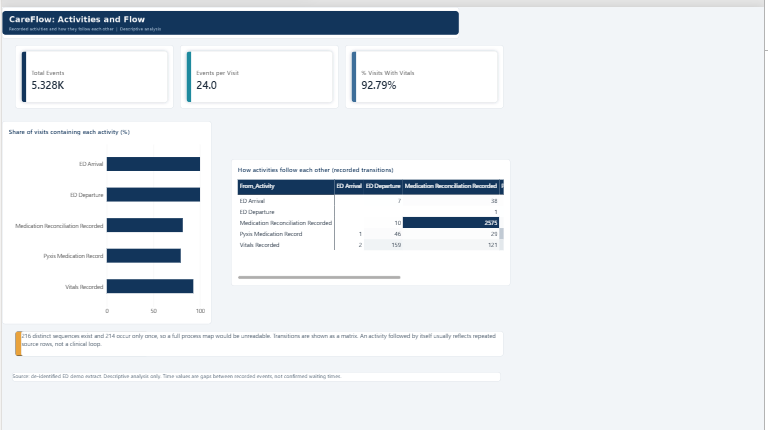

The dashboard page shown, as its layout file describes it:
{"tool":"powerbi","page":{"name":"Data Quality","canvas":[1920,1080],"ordinal":1},"visuals":[{"type":"cardVisual","fields":{"Data":["Measures (2).Total Events"]},"box":[32,96,400,160],"z":2000},{"type":"cardVisual","fields":{"Data":["Measures (2).Events per Visit"]},"box":[448,96,400,160],"z":3000},{"type":"cardVisual","fields":{"Data":["Measures (2).% Visits With Vitals"]},"box":[864,96,400,160],"z":4000},{"type":"barChart","title":"Share of visits containing each activity (%)","fields":{"Category":["activity_summary.Activity_Name"],"Y":["Avg(activity_summary.Pct_of_Visits)"]},"box":[0,288,528,512],"z":5000},{"type":"pivotTable","title":"How activities follow each other (recorded transitions)","fields":{"Columns":["process_edges.To_Activity"],"Rows":["process_edges.From_Activity"],"Values":["Sum(process_edges.Trace_Transition_Count)"]},"box":[576,384,704,320],"z":6000},{"type":"textbox","box":[24,920,1232,24],"z":7000},{"type":"shape","box":[32,816,336,64],"z":8000},{"type":"textbox","box":[48,816,1216,64],"z":8500},{"type":"image","box":[0,0,1152,80],"z":8501}]}

Visuals, with their boxes in screenshot pixels (x1, y1, x2, y2), scaled from the page's 1920x1080 canvas onto the 768x430 screenshot:
cardVisual - Measures (2).Total Events: 13, 38, 173, 102
cardVisual - Measures (2).Events per Visit: 179, 38, 339, 102
cardVisual - Measures (2).% Visits With Vitals: 346, 38, 506, 102
"Share of visits containing each activity (%)" barChart: 0, 115, 211, 319
"How activities follow each other (recorded transitions)" pivotTable: 230, 153, 512, 280
textbox: 10, 366, 502, 376
shape: 13, 325, 147, 350
textbox: 19, 325, 506, 350
image: 0, 0, 461, 32
